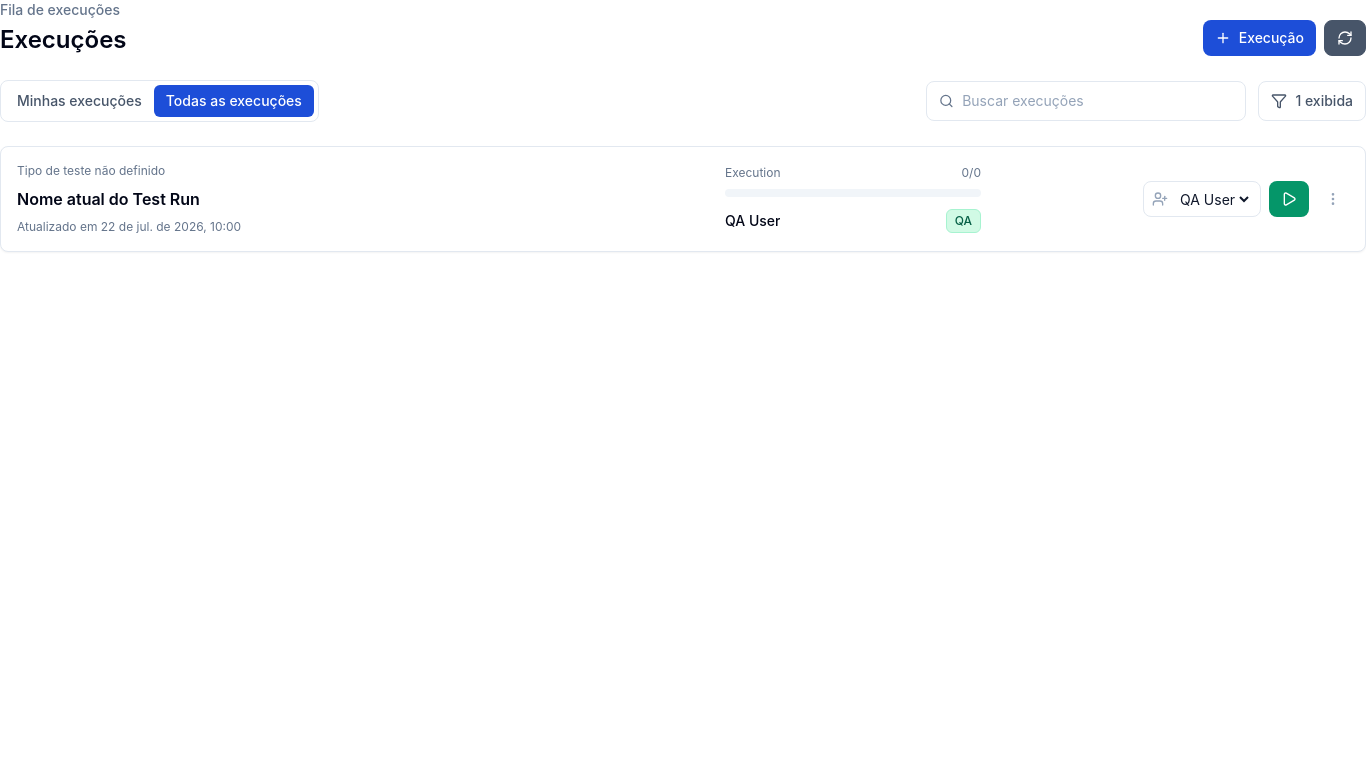
TestRunsPage name editing › opens the modal and updates the displayed name immediately after saving
Expected: the heading "Nome atual do Test Run" is shown, [17,189,200,209]
Click the button named "Ações da execução". click: (1333, 199)
box: [1317,183,1349,215]
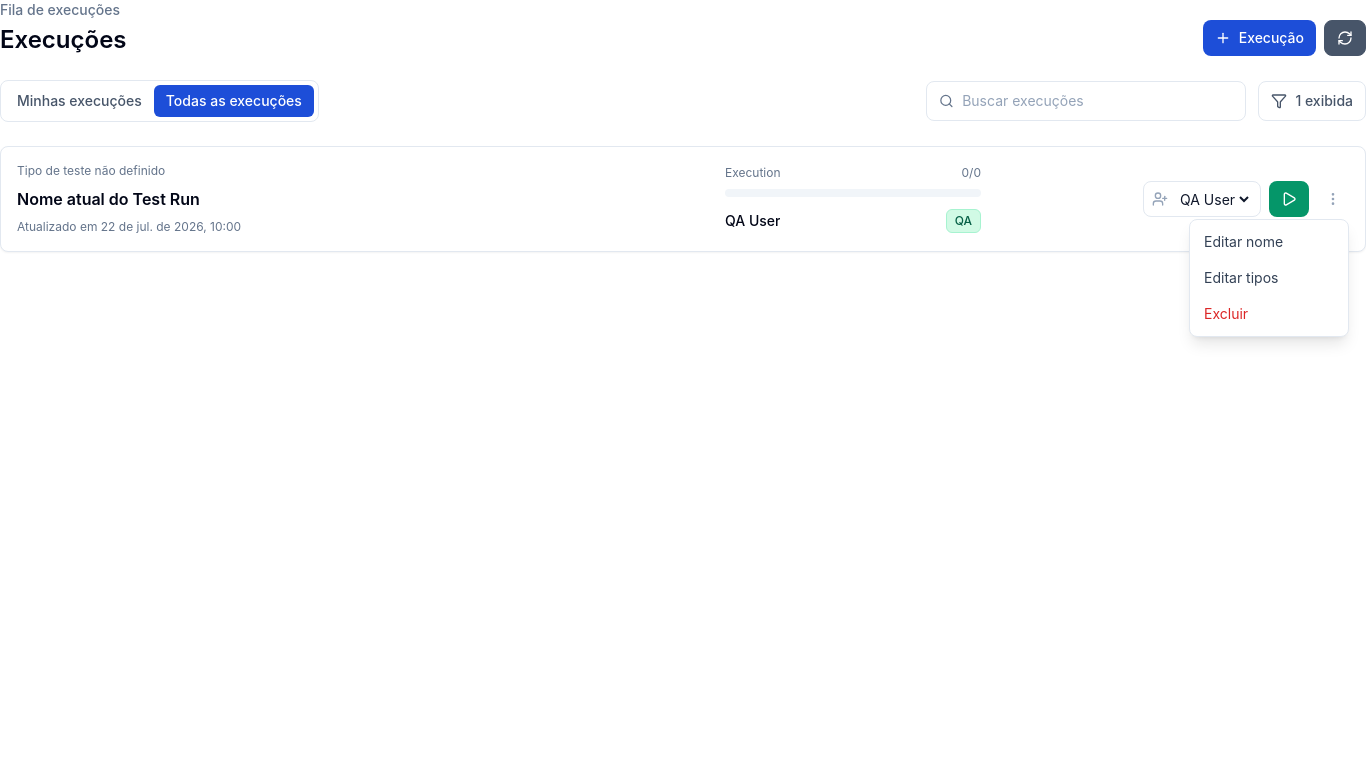
Click the menu item "Editar nome". click: (1269, 242)
box: [1194,224,1344,260]
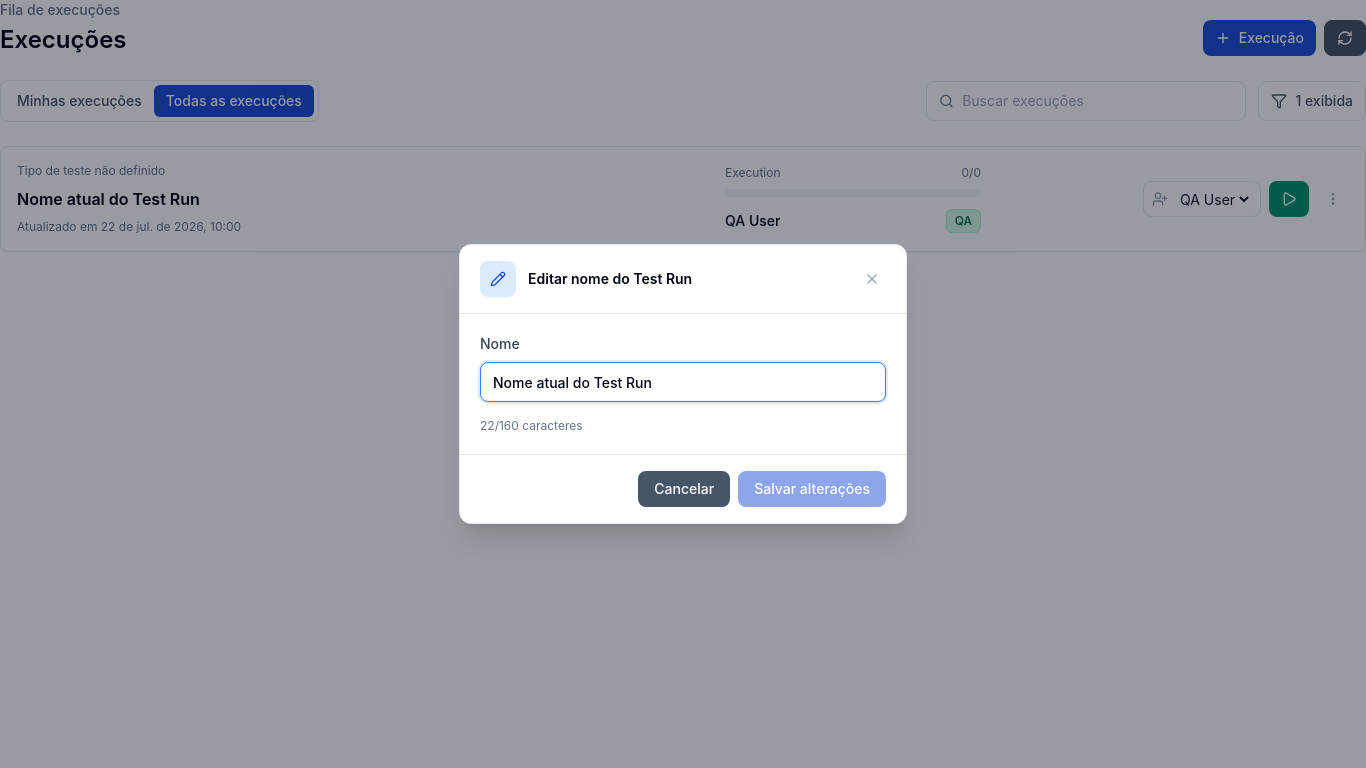
Now the field labelled "Nome" holds "Nome atual do Test Run"
Replace the text in the field labelled "Nome" with "Nome atualizado na lista". click: (683, 382)
box: [480,362,886,402]
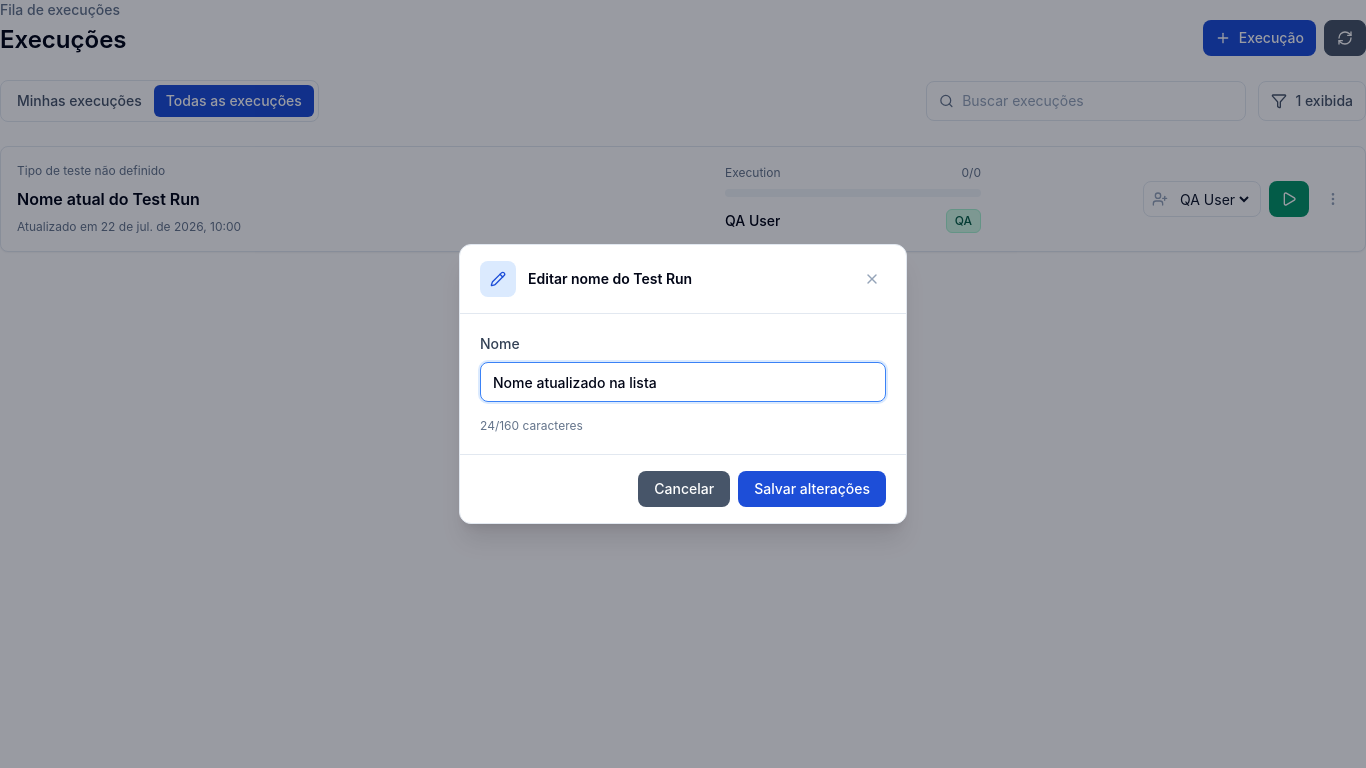
Click the button "Salvar alterações". click: (812, 489)
box: [738,471,886,507]
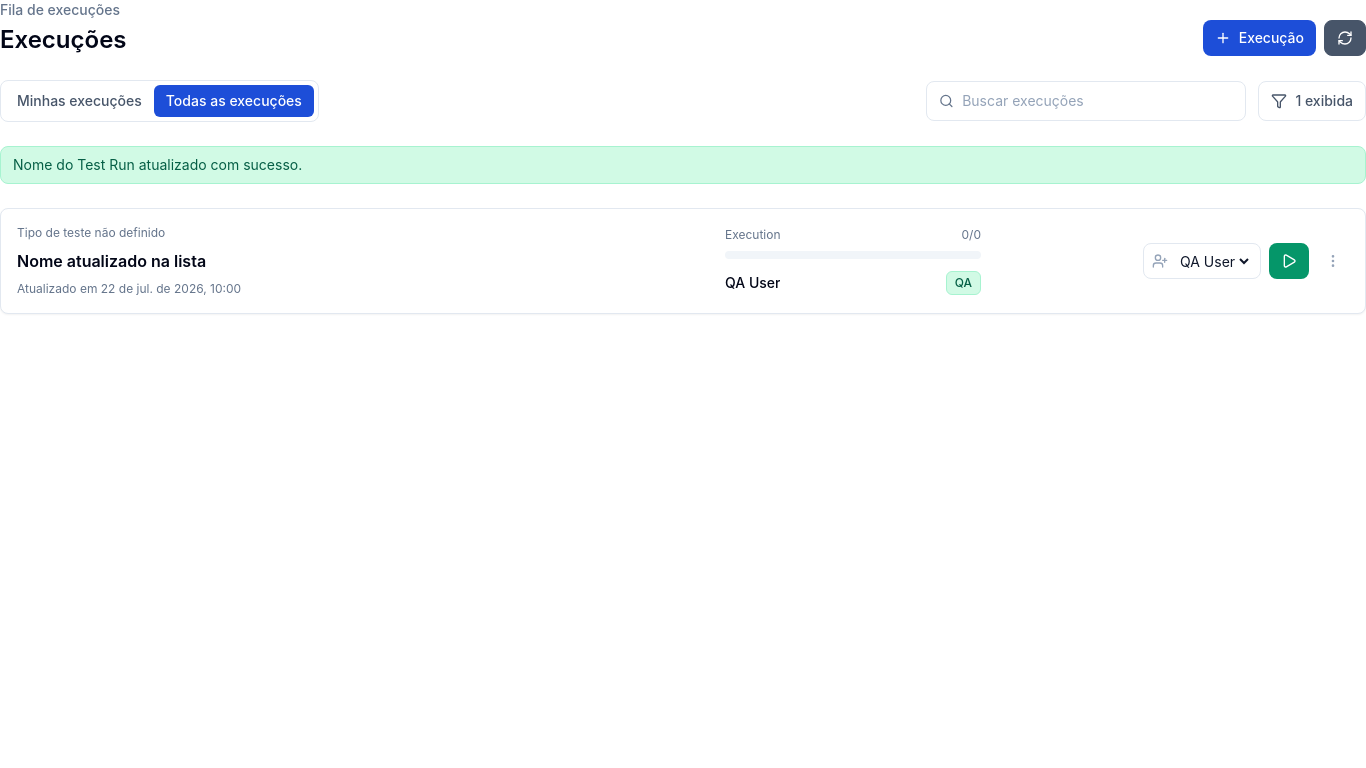
Now the heading "Nome atualizado na lista" is shown, box [17,251,206,271]
Now the button "Nome atual do Test Run" is gone
Now the text "Nome do Test Run atualizado com sucesso." is shown, box [0,146,1365,184]
